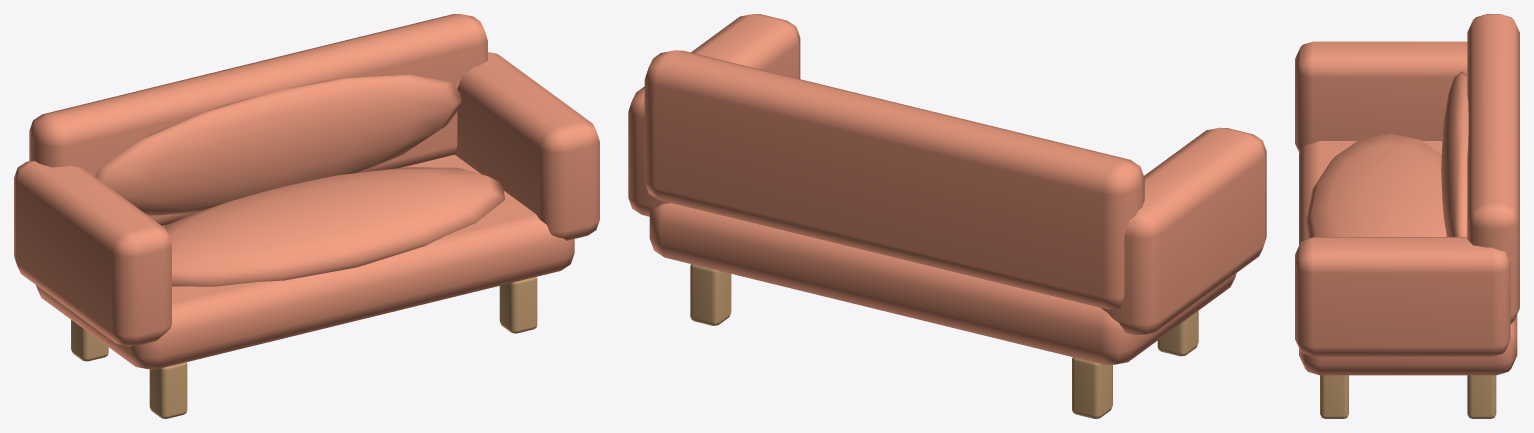
File: Sofa.fbx
The picture shows the model from 3 angles, left to right: view 1: azimuth 30°, elevation 25°; view 2: azimuth 150°, elevation 25°; view 3: azimuth 270°, elevation 25°; orthographic projection. The views are drawn at different scales.
Parts seen in each view (by area): view 1: Sofa_BackCushion, Sofa_SeatBase, Sofa_SeatCushion, Sofa_Back, Sofa_LeftArm, Sofa_RightArm, Sofa_Leg, Sofa_Leg.002, Sofa_Leg.001; view 2: Sofa_Back, Sofa_SeatBase, Sofa_LeftArm, Sofa_RightArm, Sofa_Leg.003, Sofa_Leg.001, Sofa_Leg; view 3: Sofa_RightArm, Sofa_LeftArm, Sofa_Back, Sofa_SeatCushion, Sofa_SeatBase, Sofa_BackCushion, Sofa_Leg.003, Sofa_Leg.002.
Boxes of the visible parts, x1=… form: Sofa_BackCushion: x1=95, y1=74, x2=461, y2=215; Sofa_SeatBase: x1=36, y1=154, x2=574, y2=369; Sofa_SeatCushion: x1=163, y1=167, x2=505, y2=286; Sofa_Back: x1=29, y1=14, x2=487, y2=225; Sofa_LeftArm: x1=14, y1=161, x2=171, y2=346; Sofa_RightArm: x1=455, y1=52, x2=599, y2=240; Sofa_Leg: x1=149, y1=362, x2=187, y2=418; Sofa_Leg.002: x1=499, y1=277, x2=537, y2=333; Sofa_Leg.001: x1=71, y1=320, x2=108, y2=361; Sofa_Back: x1=644, y1=50, x2=1144, y2=309; Sofa_SeatBase: x1=649, y1=203, x2=1236, y2=364; Sofa_LeftArm: x1=1101, y1=127, x2=1266, y2=335; Sofa_RightArm: x1=628, y1=14, x2=800, y2=216; Sofa_Leg.003: x1=690, y1=264, x2=731, y2=325; Sofa_Leg.001: x1=1072, y1=357, x2=1112, y2=418; Sofa_Leg: x1=1157, y1=311, x2=1198, y2=356; Sofa_RightArm: x1=1295, y1=237, x2=1510, y2=356; Sofa_LeftArm: x1=1295, y1=41, x2=1467, y2=152; Sofa_Back: x1=1467, y1=14, x2=1519, y2=323; Sofa_SeatCushion: x1=1305, y1=133, x2=1446, y2=238; Sofa_SeatBase: x1=1299, y1=141, x2=1517, y2=375; Sofa_BackCushion: x1=1441, y1=71, x2=1468, y2=236; Sofa_Leg.003: x1=1467, y1=375, x2=1496, y2=418; Sofa_Leg.002: x1=1320, y1=375, x2=1348, y2=418.
Size of the model in its own units: 2 by 0.95 by 0.855.
